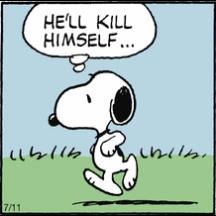snoopy: (48, 70, 138, 196)
